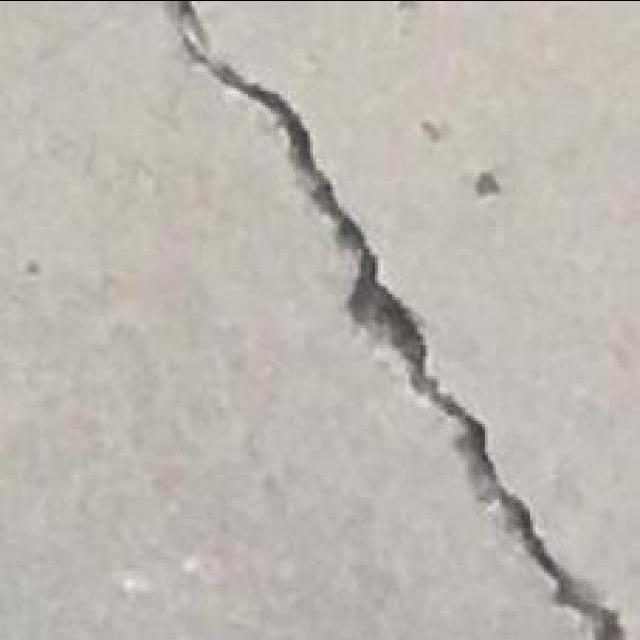Crack: (165, 1, 627, 637)
